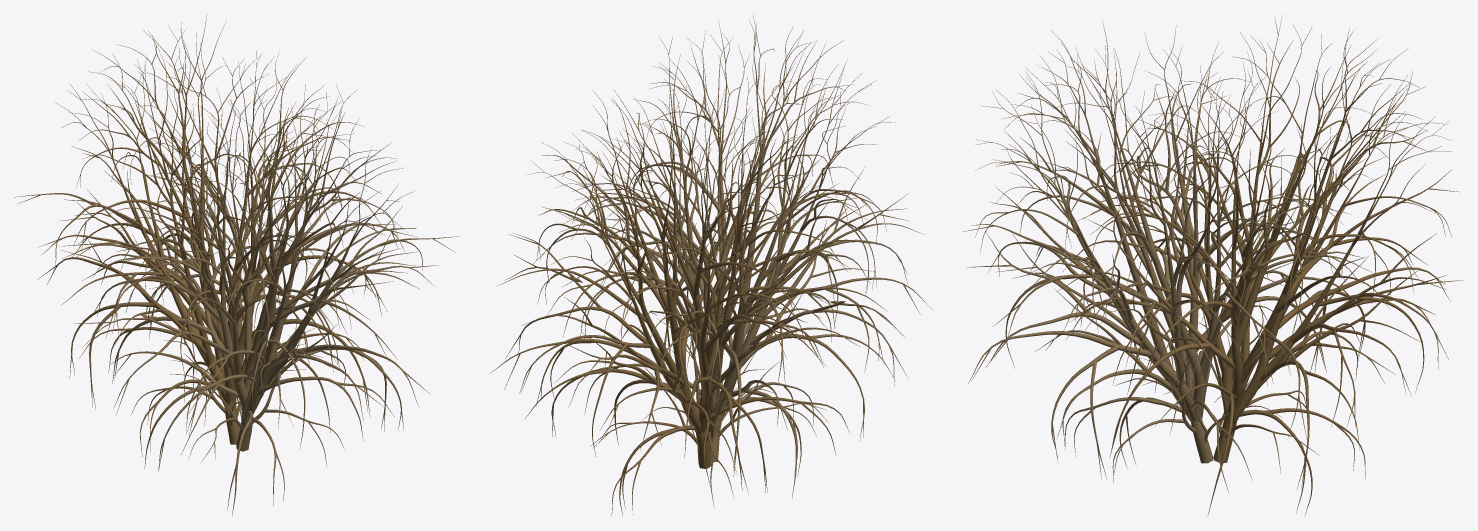
The model's file is birch bush.fbx.
3 renders of one model, left to right at view 1: azimuth 30°, elevation 25°; view 2: azimuth 150°, elevation 25°; view 3: azimuth 270°, elevation 25°, orthographic. The views are drawn at different scales.
Parts seen in each view (by area): view 1: tree, tree.001; view 2: tree.001, tree; view 3: tree.001, tree.
Part boxes in pixels (<box>): tree: <box>73,70,459,515</box>; tree.001: <box>14,14,395,456</box>; tree.001: <box>489,86,887,516</box>; tree: <box>533,14,933,498</box>; tree.001: <box>1056,14,1463,516</box>; tree: <box>962,20,1371,492</box>.
Bounding box in the file's own units: 586 × 663 × 669.
